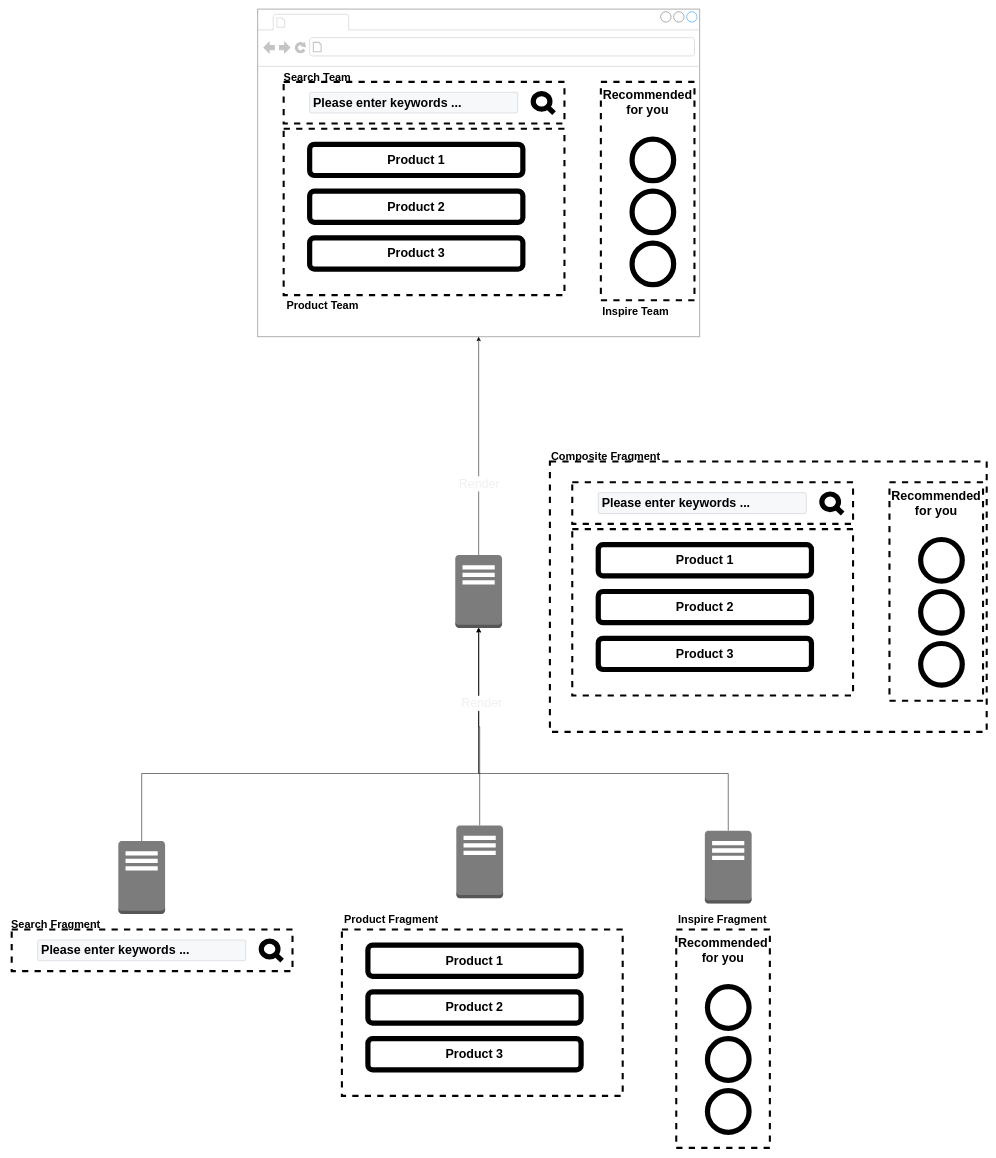
Some shapes in this 996 by 1158 pixel diagram are drawn without their labels. Here are the shapes that lost their labels. From the top down, the centre of each, then its label:
At (317,22): "Page 1".
At (390,47): "https://www.draw.io".
